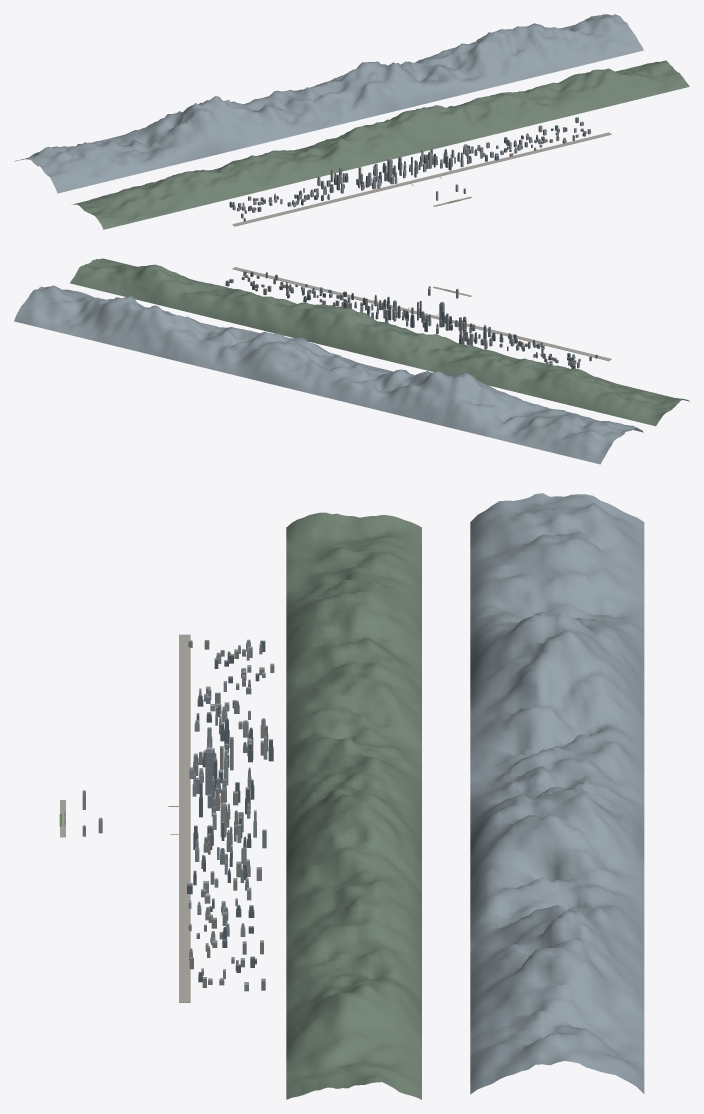
The model's file is city.glb.
The picture shows the model from 3 angles, top to bottom: view 1: azimuth 30°, elevation 25°; view 2: azimuth 150°, elevation 25°; view 3: azimuth 270°, elevation 25°; orthographic projection. The views are drawn at different scales.
Parts seen in each view (by area): view 1: ridge_far, ridge_near, shore_far; view 2: ridge_far, ridge_near, shore_far; view 3: ridge_far, ridge_near, shore_far.
Boxes of the visible parts, x1,y1,x2,y2 form: ridge_far: (14,14,643,193); ridge_near: (73,60,689,229); shore_far: (232,132,611,226); ridge_far: (14,285,643,464); ridge_near: (70,258,689,426); shore_far: (232,267,611,360); ridge_far: (470,493,644,1094); ridge_near: (286,512,421,1099); shore_far: (179,634,190,1002).
Bounding box in the file's own units: 14000 × 902 × 6045.
Materials: 11 (5 with a texture image).
